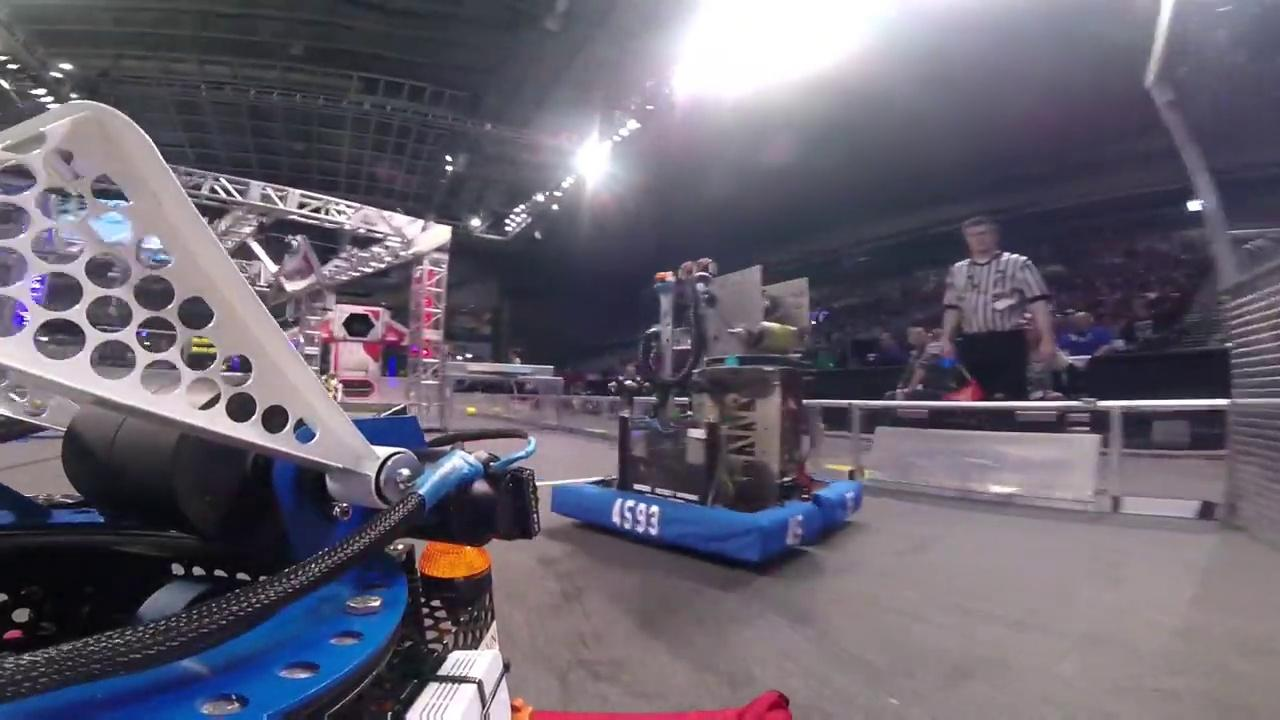robot: (546, 258, 866, 577)
